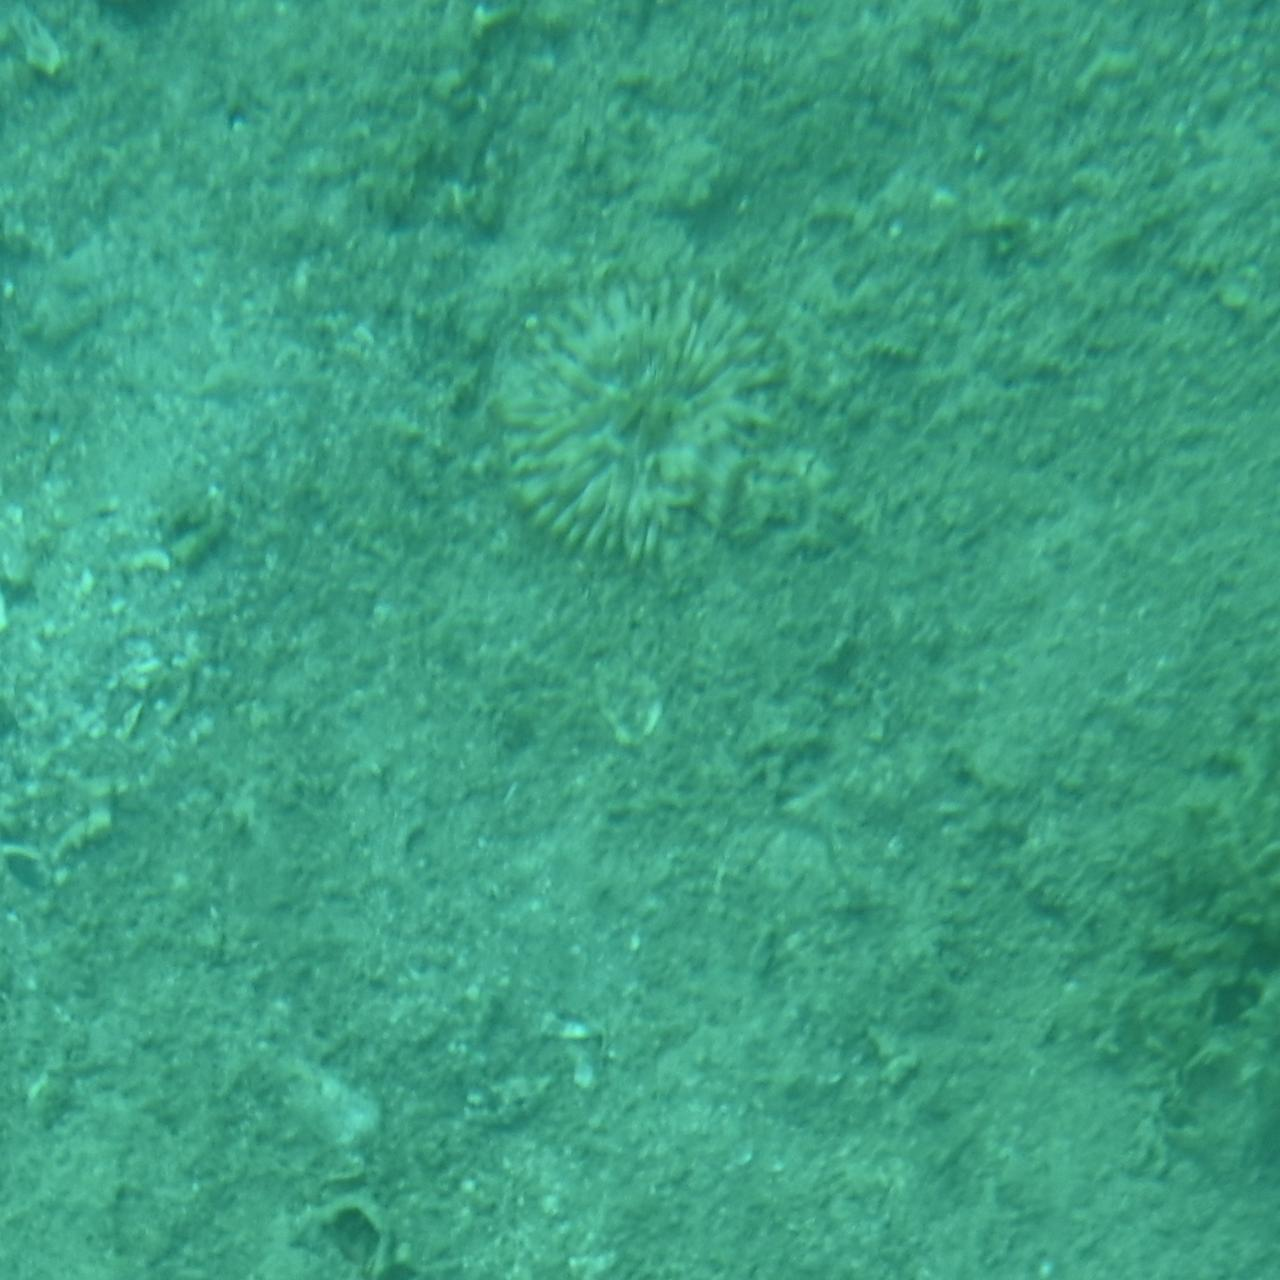Condylactis aurantiaca: (472, 273, 808, 568)
